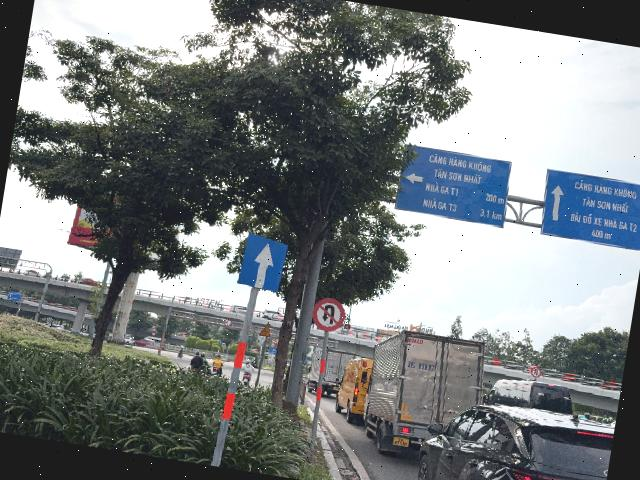cam-quay-dau-xe: (309, 296, 347, 334)
duong-mot-chieu: (236, 233, 288, 294)
